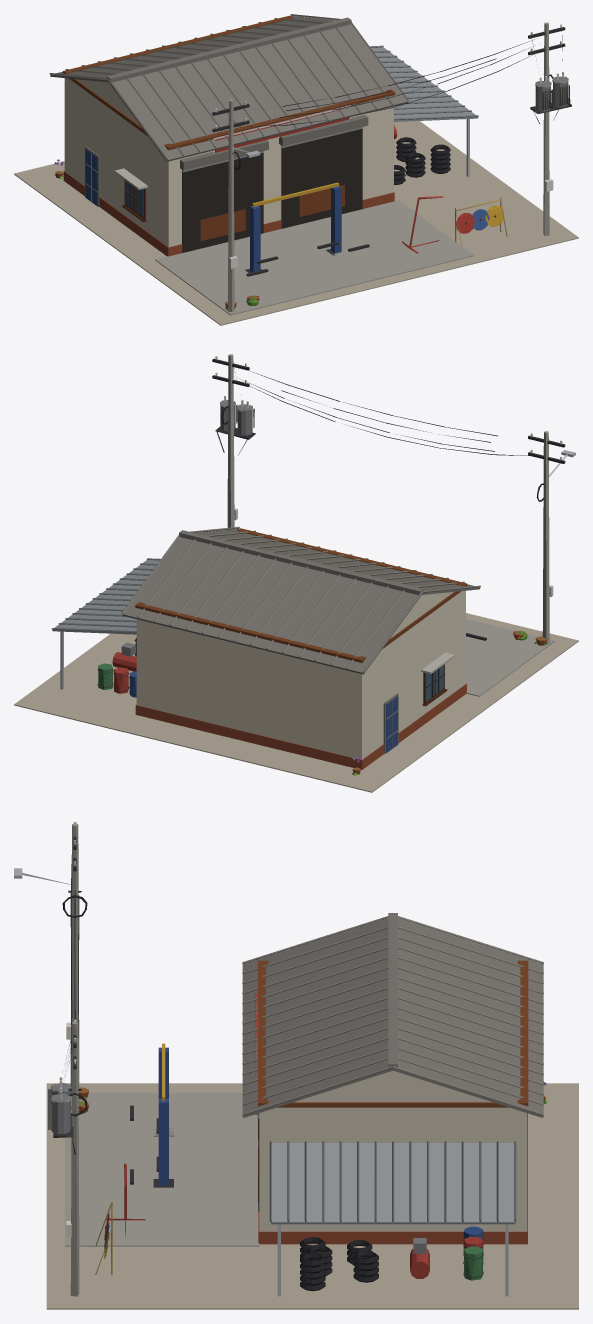
File: factory_1.glb
The picture shows the model from 3 angles, top to bottom: view 1: azimuth 30°, elevation 25°; view 2: azimuth 150°, elevation 25°; view 3: azimuth 270°, elevation 25°; orthographic projection. The views are drawn at different scales.
Visible parts, largest first — view 1: body, windows; view 2: body; view 3: body.
Boxes of the visible parts, x1,y1,x2,y2 form: body: (14, 14, 578, 325); windows: (125, 128, 362, 252); body: (14, 354, 578, 792); body: (14, 821, 578, 1309).
Size of the model in its own units: 15.9 by 9.3 by 16.88.
